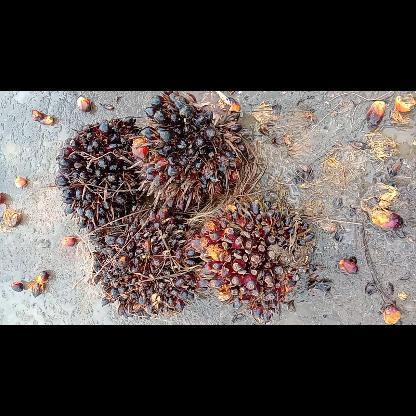TBS abnormal: (127, 91, 253, 207), (53, 113, 155, 235)
TBS masak: (189, 194, 315, 324), (88, 202, 206, 320)
